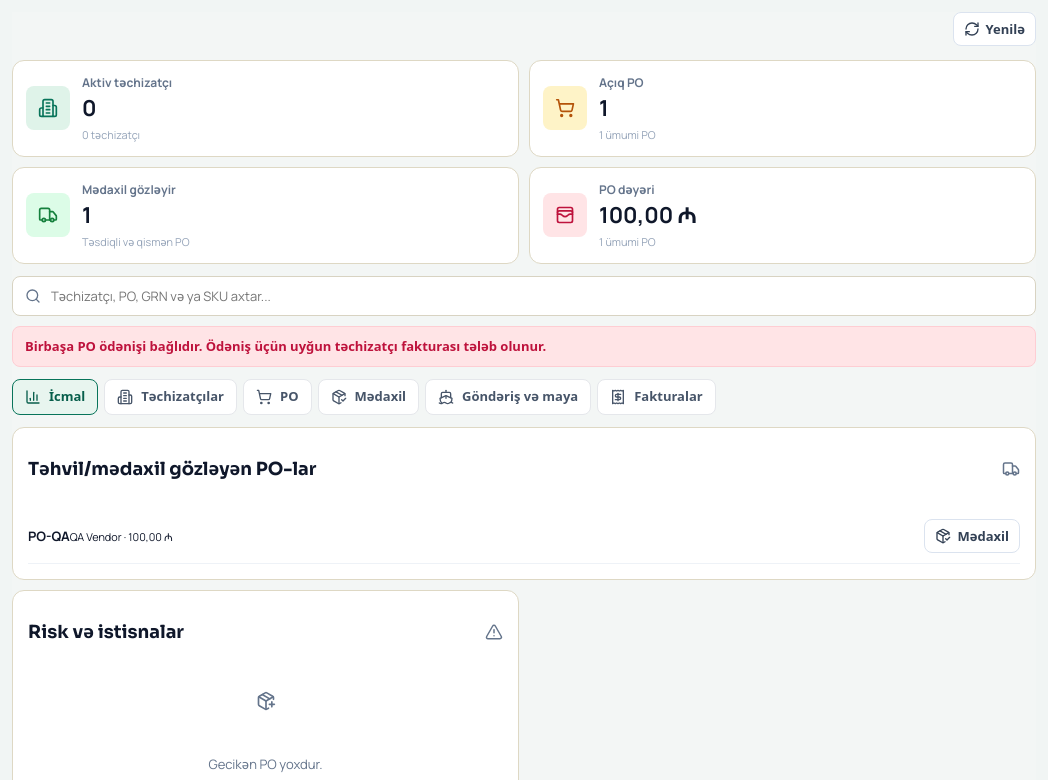
Scenario: exposes the invoice work tab and derives paid PO amounts from canonical paid invoices
This screenshot has width=1048, height=780.
Check: the button "Fakturalar" is shown, box [597,379,716,415]
What coordinates should you click on to do the following:
click the button "PO"
I would click on:
 (277, 397)
Its box is [243,379,312,415].
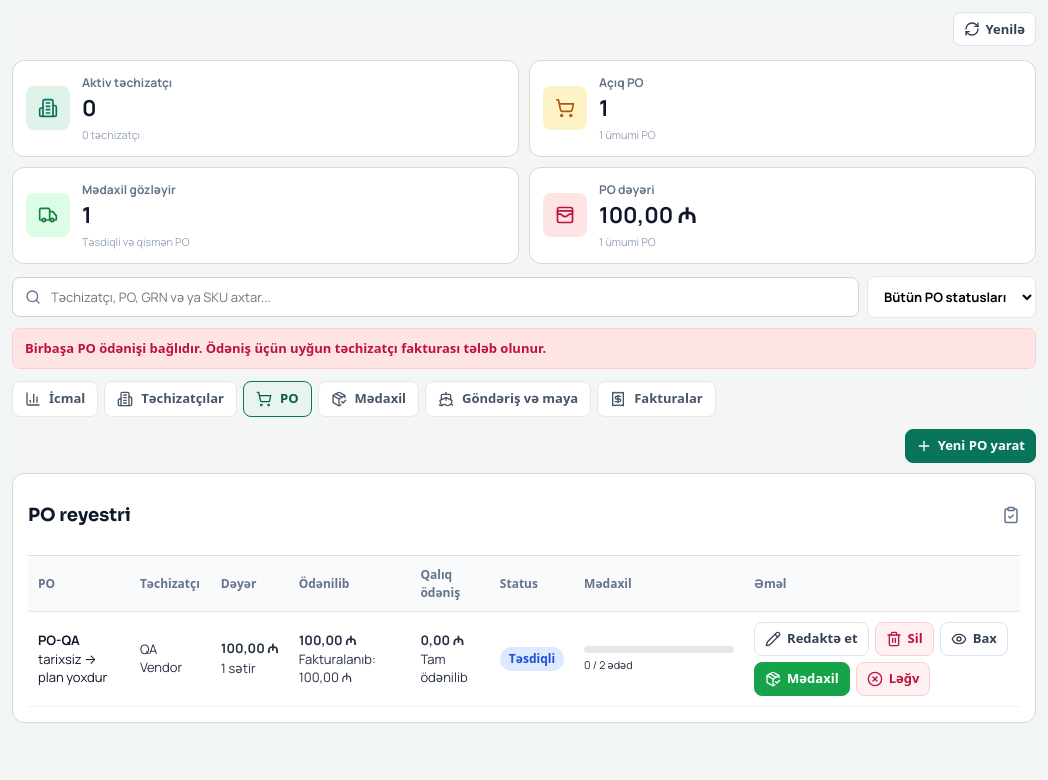
Check: the cell "100,00 ₼ Fakturalanıb: 100,00 ₼" is shown, box [289,611,410,706]
Check: the cell "0,00 ₼ Tam ödənilib" is shown, box [410,611,490,706]
